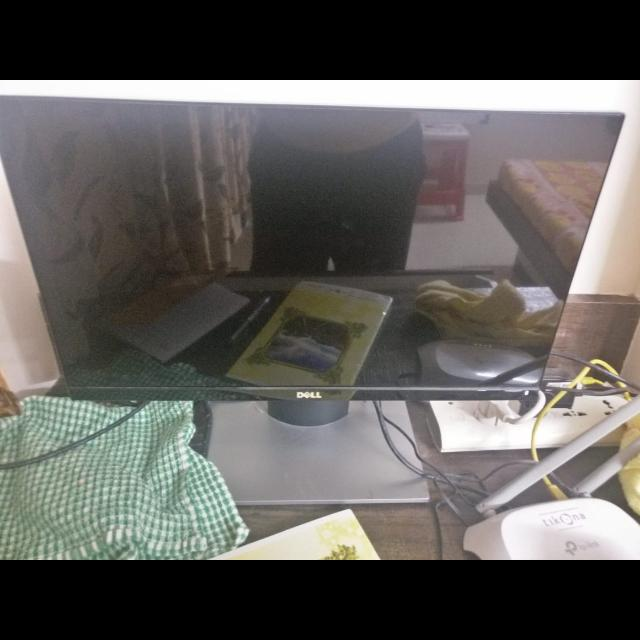Flat-Panel-Monitor: (2, 91, 630, 511)
